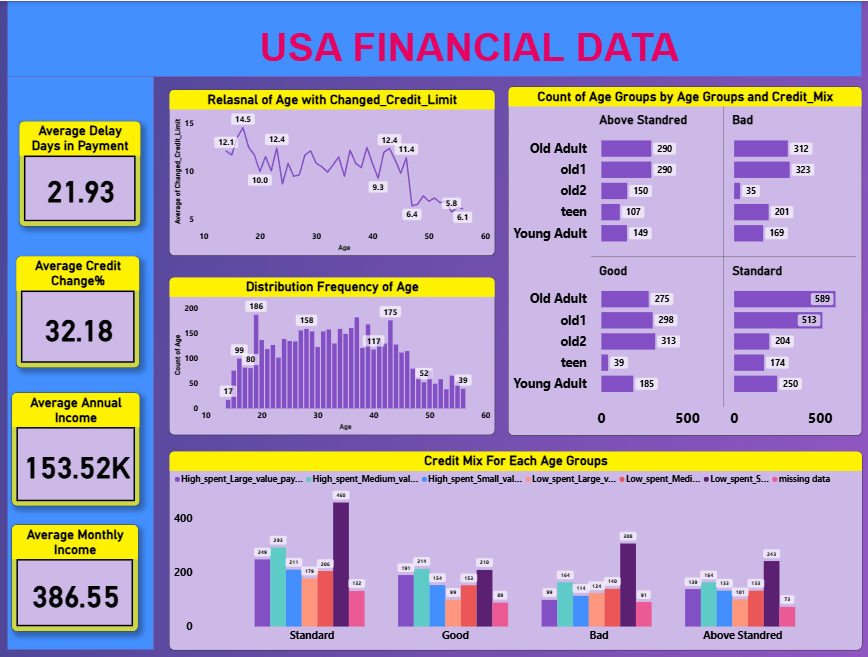

What the dashboard file says about the page in this screenshot:
{"tool":"powerbi","page":{"name":"Page 1","canvas":[1800,1350],"ordinal":0},"visuals":[{"type":"group","id":"g1","title":"Group 1","box":[36.7,0,1730,1313.3],"z":0},{"type":"lineChart","title":"Relasnal of Age with  Changed_Credit_Limit","fields":{"Category":["Financial data.Age"],"Y":["Avg(Financial data.Changed_Credit_Limit)"]},"box":[363.3,180,660,336.7],"z":1000},{"type":"clusteredColumnChart","title":"Distribution Frequency of Age","fields":{"Category":["Financial data.Age"],"Y":["CountNonNull(Financial data.Age)"]},"box":[363.3,560,660,320],"z":2000},{"type":"clusteredBarChart","title":"Count of Age Groups by Age Groups and Credit_Mix","fields":{"Category":["Financial data.Age Groups"],"Y":["CountNonNull(Financial data.Age Groups)"],"Rows":["Financial data.Credit_Mix"]},"box":[1050,173.3,716.7,706.7],"z":3000},{"type":"cardVisual","title":"Average Credit Change%","fields":{"Data":["Avg(Financial data.Credit_Utilization_Ratio)"]},"box":[53.3,516.7,250,226.7],"z":4000},{"type":"cardVisual","title":"Average Delay Days in Payment","fields":{"Data":["Avg(Financial data.Delay_from_due_date)"]},"box":[60,243.3,246.7,213.3],"z":5000},{"type":"cardVisual","title":"Average Annual Income","fields":{"Data":["Avg(Financial data.Annual_Income)"]},"box":[46.7,793.3,260,230],"z":6000},{"type":"shape","box":[36.7,0,296.7,1313.3],"z":7000,"group":"g1"},{"type":"cardVisual","title":"Average Monthly Income","fields":{"Data":["Avg(Financial data.Monthly_Balance)"]},"box":[46.7,1060,256.7,216.7],"z":7000},{"type":"shape","box":[36.7,0,1730,153.3],"z":8000,"group":"g1"},{"type":"textbox","box":[386.7,20,1173.3,160],"z":8000},{"type":"clusteredColumnChart","title":"Credit Mix For Each Age Groups","fields":{"Category":["Financial data.Credit_Mix"],"Y":["CountNonNull(Financial data.Payment_Behaviour)"],"Series":["Financial data.Payment_Behaviour"]},"box":[363.3,910,1403.3,403.3],"z":8001}]}

Visuals, with their boxes in screenshot pixels (x1, y1, x2, y2), scaled from the page's 1800x1350 canvas onto the 868x657 screenshot:
"Group 1" group: detection(18, 0, 852, 639)
"Relasnal of Age with  Changed_Credit_Limit" lineChart: detection(175, 88, 493, 251)
"Distribution Frequency of Age" clusteredColumnChart: detection(175, 273, 493, 428)
"Count of Age Groups by Age Groups and Credit_Mix" clusteredBarChart: detection(506, 84, 852, 428)
"Average Credit Change%" cardVisual: detection(26, 251, 146, 362)
"Average Delay Days in Payment" cardVisual: detection(29, 118, 148, 222)
"Average Annual Income" cardVisual: detection(23, 386, 148, 498)
shape: detection(18, 0, 161, 639)
"Average Monthly Income" cardVisual: detection(23, 516, 146, 621)
shape: detection(18, 0, 852, 75)
textbox: detection(186, 10, 752, 88)
"Credit Mix For Each Age Groups" clusteredColumnChart: detection(175, 443, 852, 639)
